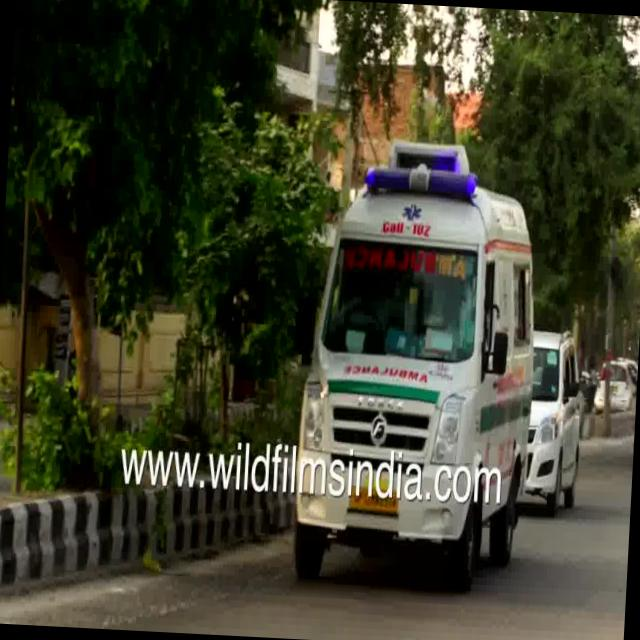ambulance: (289, 111, 546, 462)
